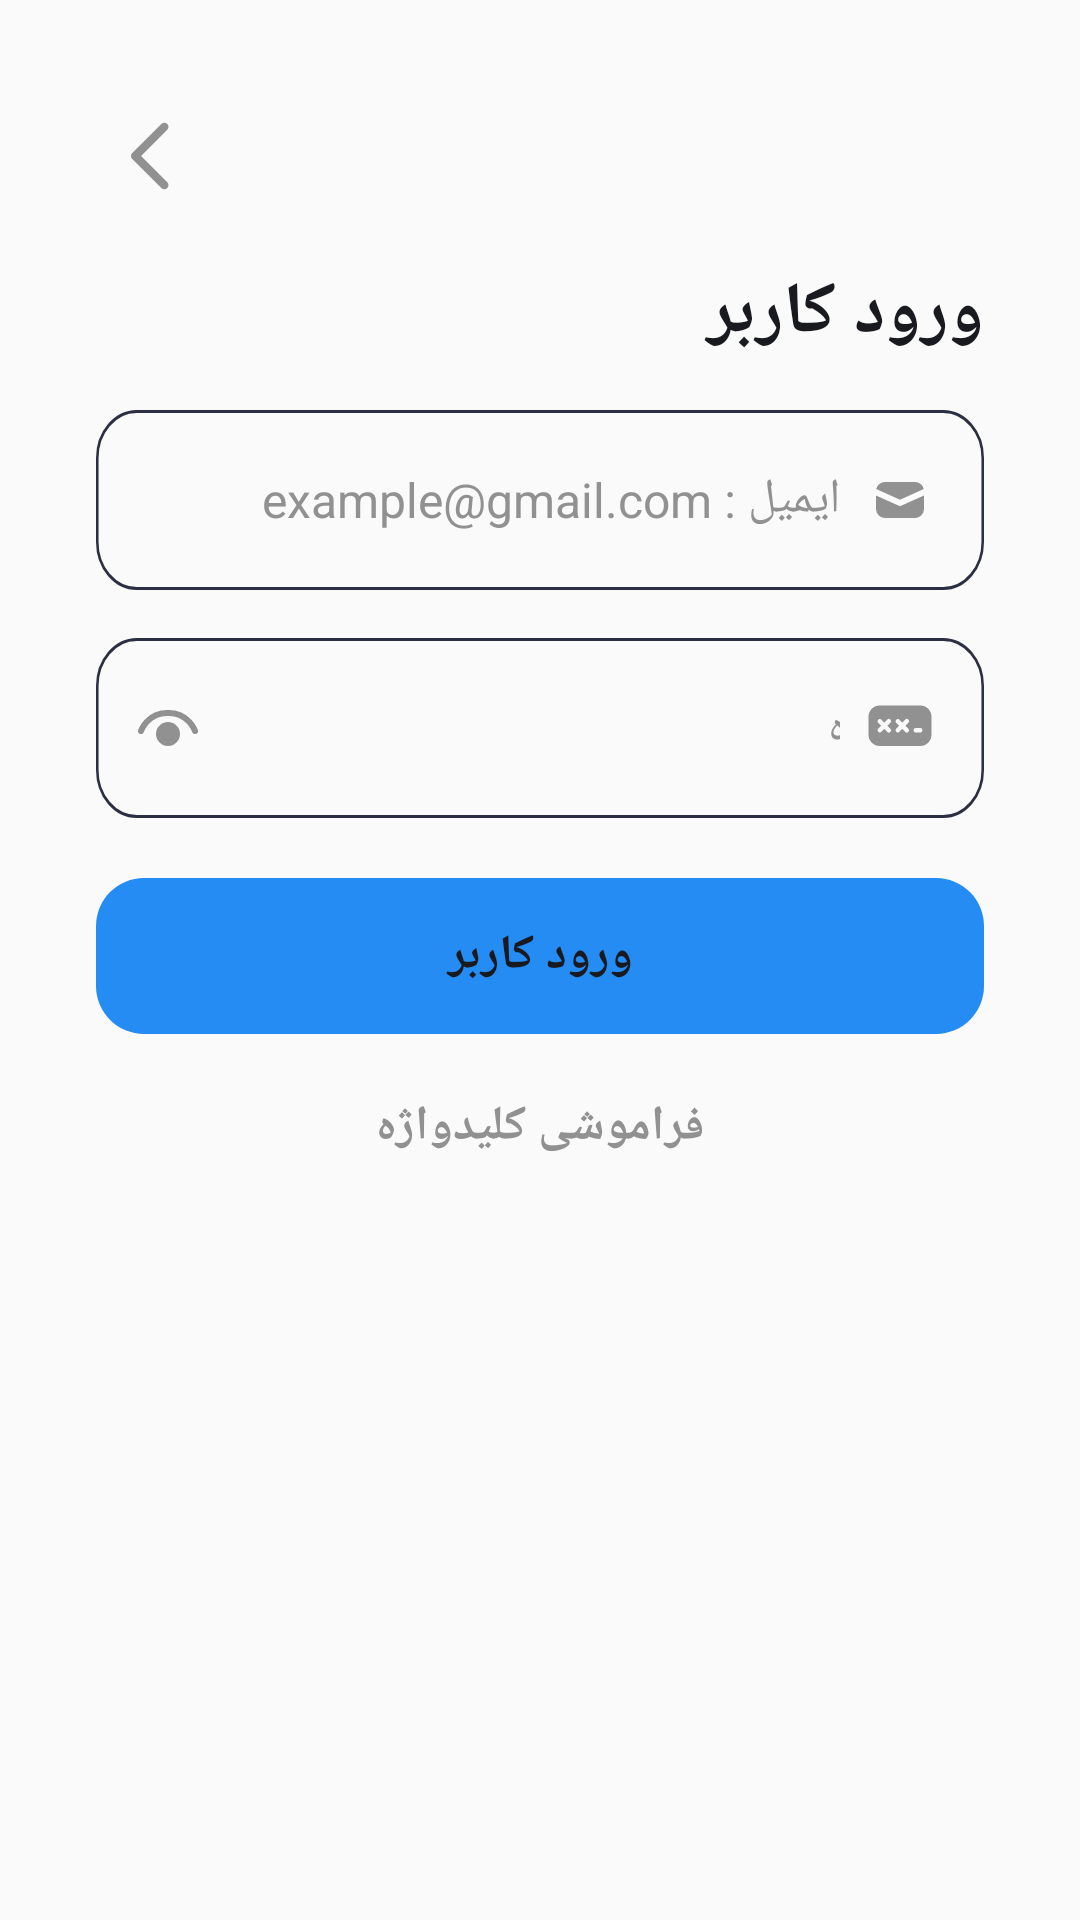

Icons on this 1080w x 1920h Android screen, each with its box as (x1, y1, x2, y2):
back: (131, 123, 169, 189)
